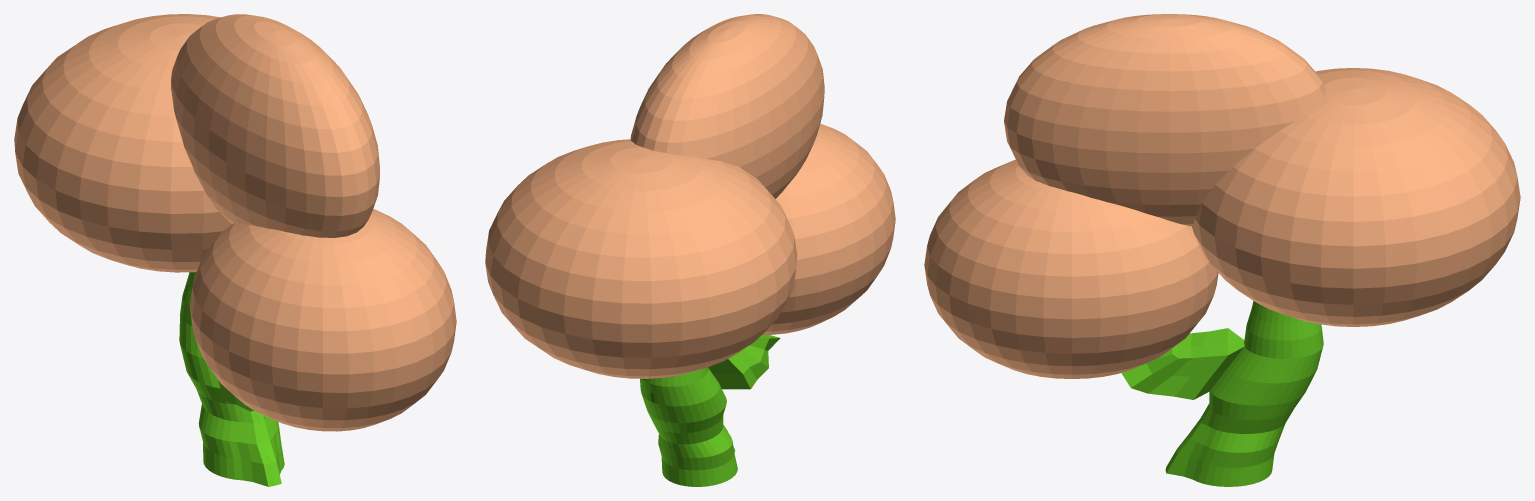
The model's file is Big FlowerT Peach.fbx.
3 views of the same model, side by side, from view 1: azimuth 30°, elevation 25°; view 2: azimuth 150°, elevation 25°; view 3: azimuth 270°, elevation 25° (orthographic). The views are drawn at different scales.
Visible parts, largest first — view 1: Cylinder; view 2: Cylinder; view 3: Cylinder.
Boxes of the visible parts, x1=… form: Cylinder: x1=14, y1=14, x2=456, y2=486; Cylinder: x1=485, y1=14, x2=895, y2=486; Cylinder: x1=924, y1=14, x2=1520, y2=486.
Bounding box in the file's own units: 32.21 × 47.55 × 56.84.
